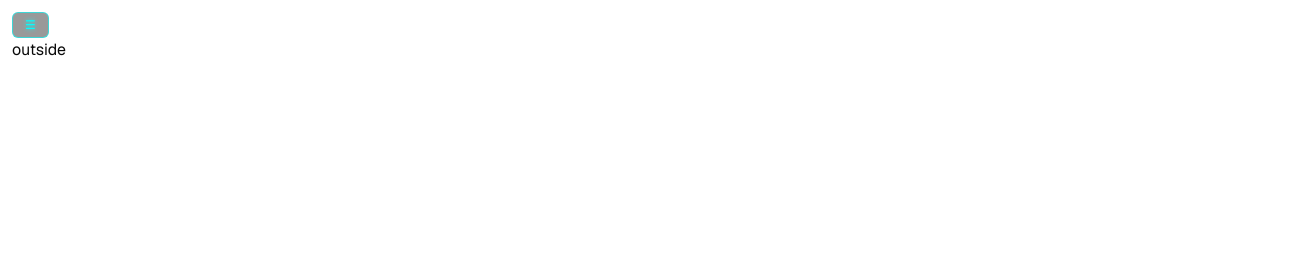
Test: compact HUD menu (☰) › ArrowDown on the button opens it; a click outside closes it
The image size is (1292, 256).
Press ArrowDown in the button named "Actions menu", box [12,12,49,38]
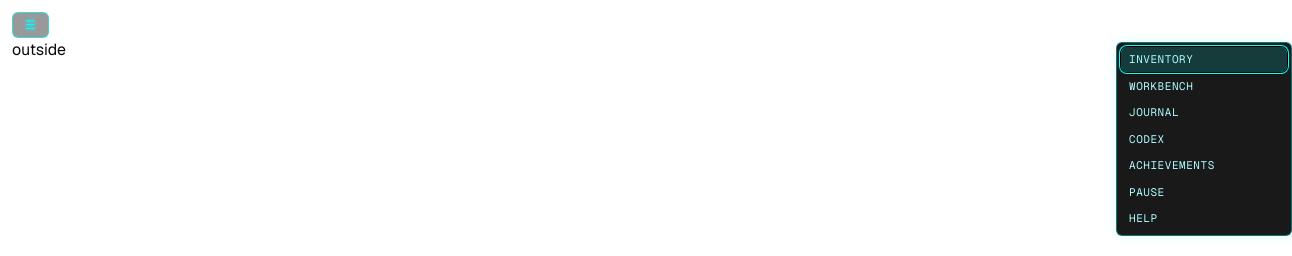
Press the mouse on the text "outside" at coordinates (39, 50), box [12,39,66,60]
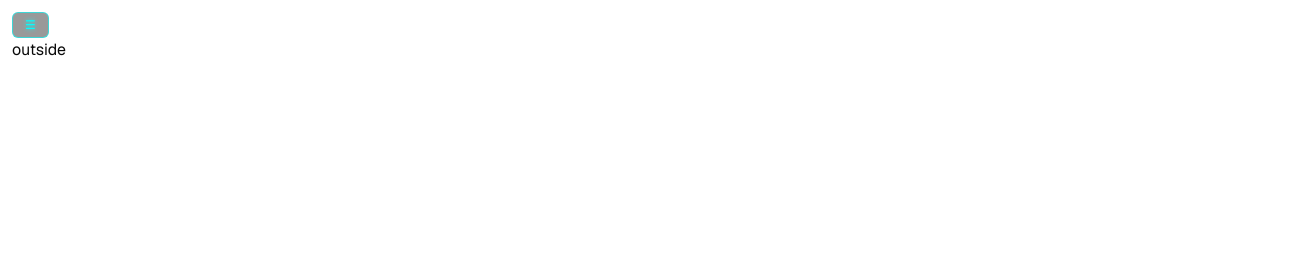
Result: the menu is gone
